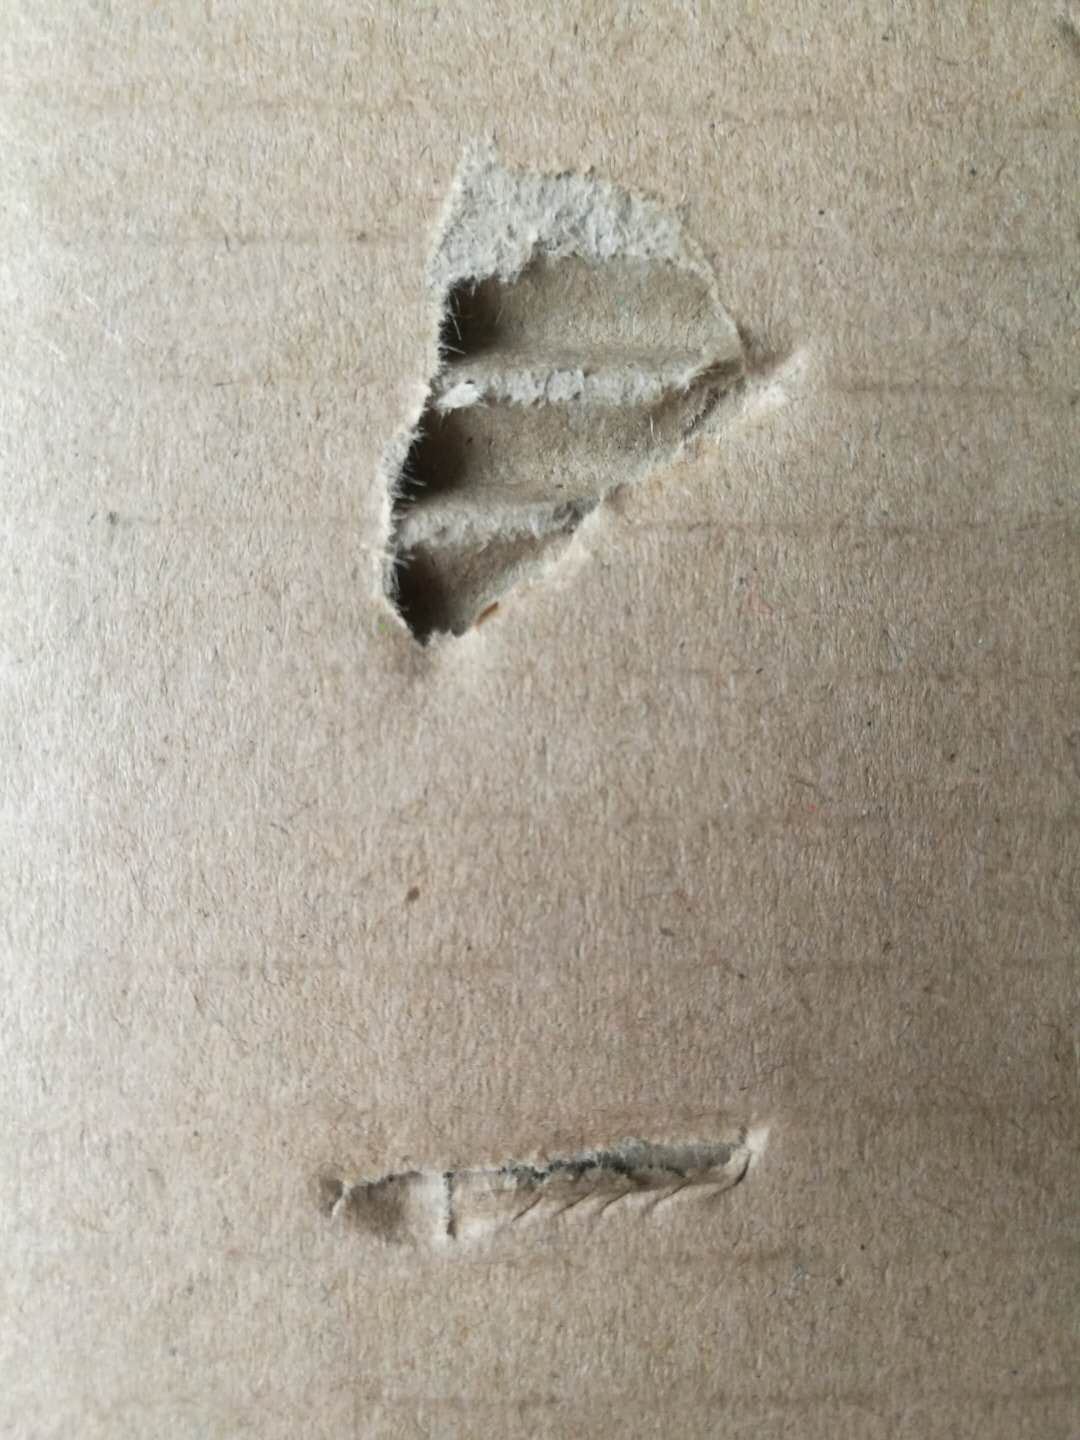defect: (312, 108, 843, 710), (275, 1062, 826, 1296)
